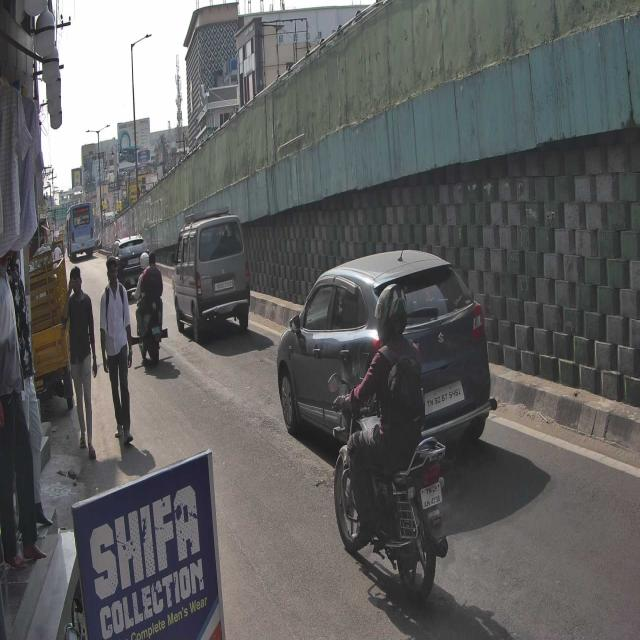single_rider: (326, 280, 448, 610)
